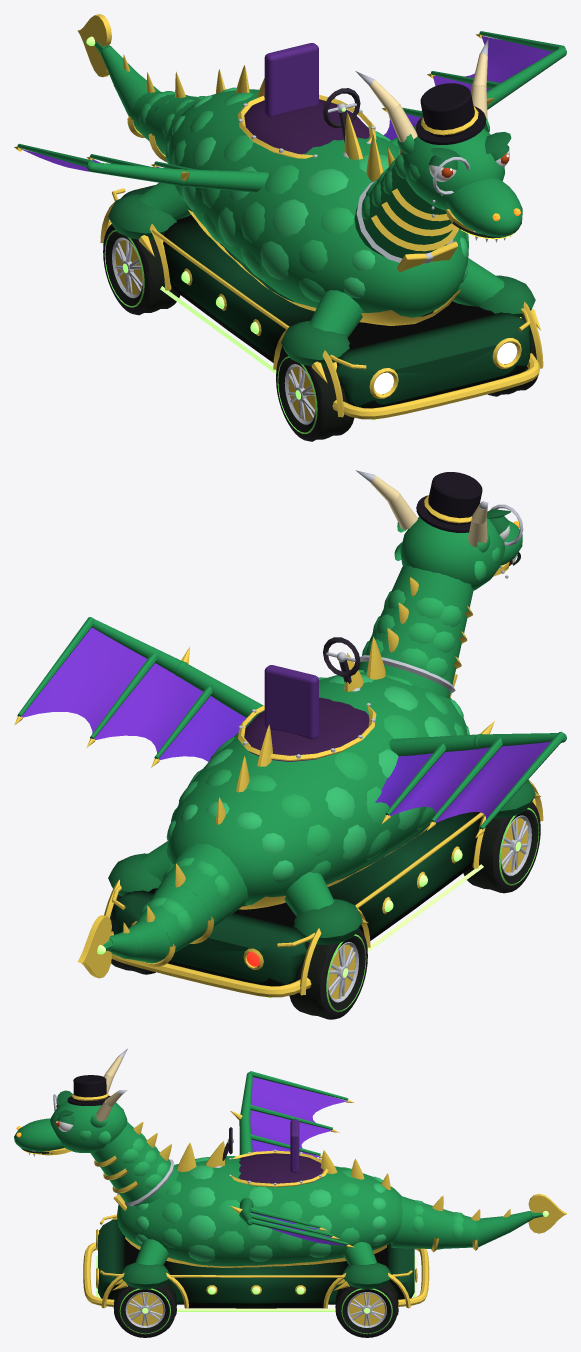
Rendered from sir_scorchalot.glb.
3 renders of one model, top to bottom at view 1: azimuth 30°, elevation 25°; view 2: azimuth 150°, elevation 25°; view 3: azimuth 270°, elevation 25°, orthographic. The views are drawn at different scales.
Visible parts, largest first — view 1: coach, trunk, saddle, cranium, neck, seat_back, snout, hat, wheel_FR_tyre, wheel_RR_tyre, bumper_1, wingL_membrane (+38 smaller); view 2: trunk, coach, wingL_membrane, wingR_membrane, neck, cranium, wingL_membrane_b, saddle, seat_back, tail_0, wheel_RR_tyre, wheel_FR_tyre (+23 smaller); view 3: trunk, coach, wingR_membrane, neck, cranium, saddle, wheel_RL_tyre, wheel_FL_tyre, tail_0, snout, wingR_membrane_b, paw_1_0 (+33 smaller).
Part boxes in pixels (box(x1,y1,x2,y2)): coach: box(121, 185, 530, 408); trunk: box(168, 89, 468, 317); saddle: box(244, 99, 369, 154); cranium: box(400, 124, 504, 210); neck: box(354, 165, 452, 258); seat_back: box(264, 43, 318, 116); snout: box(446, 178, 522, 237); hat: box(415, 83, 486, 144); wheel_FR_tyre: box(276, 350, 354, 441); wheel_RR_tyre: box(103, 224, 180, 315); bumper_1: box(332, 353, 540, 419); wingL_membrane: box(384, 36, 552, 140); trunk: box(167, 672, 467, 905); coach: box(112, 812, 480, 986); wingL_membrane: box(22, 627, 245, 761); wingR_membrane: box(375, 741, 550, 822); neck: box(358, 565, 473, 698); cranium: box(400, 517, 504, 590); wingL_membrane_b: box(22, 629, 245, 761); saddle: box(244, 697, 369, 761); seat_back: box(264, 665, 318, 739); tail_0: box(157, 843, 248, 927); wheel_RR_tyre: box(289, 928, 367, 1019); wheel_FR_tyre: box(463, 802, 540, 893); trunk: box(117, 1157, 402, 1266); coach: box(98, 1219, 414, 1308); wingR_membrane: box(250, 1077, 346, 1157); neck: box(90, 1121, 178, 1205); cranium: box(50, 1100, 127, 1152); saddle: box(239, 1153, 323, 1187); wheel_RL_tyre: box(335, 1281, 398, 1337); wheel_FL_tyre: box(113, 1281, 176, 1337); tail_0: box(391, 1196, 440, 1248); snout: box(14, 1118, 64, 1151); wingR_membrane_b: box(250, 1078, 345, 1156); paw_1_0: box(342, 1262, 391, 1289).
Bounding box in the file's own units: 5.6 × 4.11 × 8.73.
